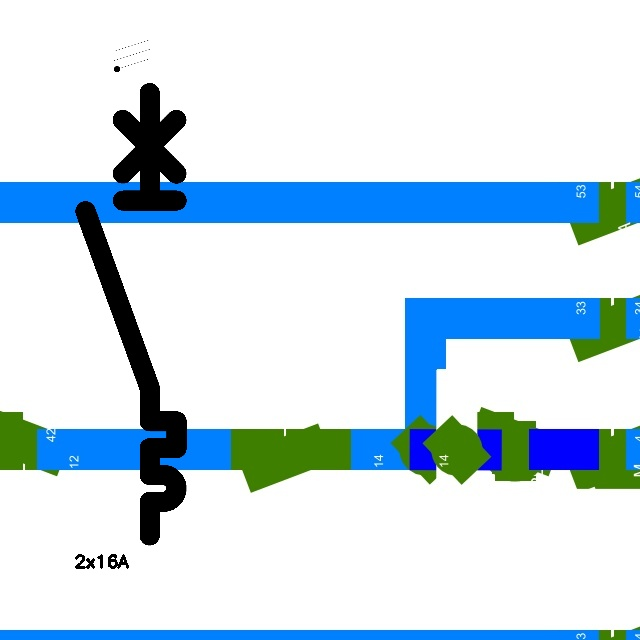interruptor_termomagnetico: (74, 81, 188, 547)
